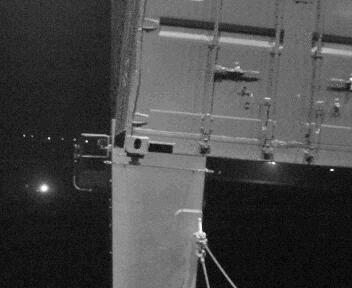twist_lock_1: (124, 150, 148, 174)
